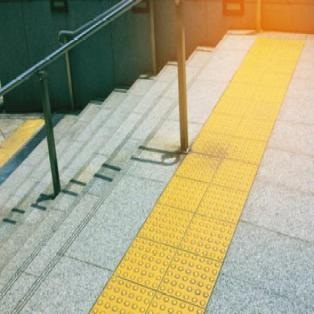Podoctatil: (87, 0, 310, 313)
